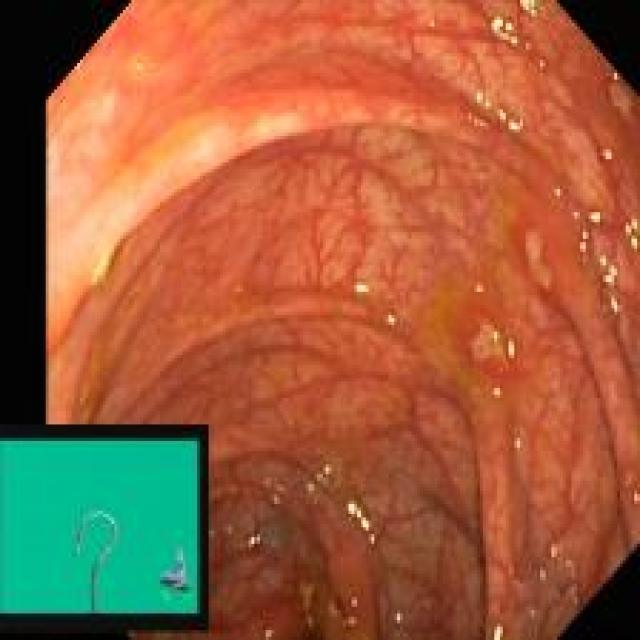ulcerative-colitis-grade-1: (51, 4, 640, 638)
